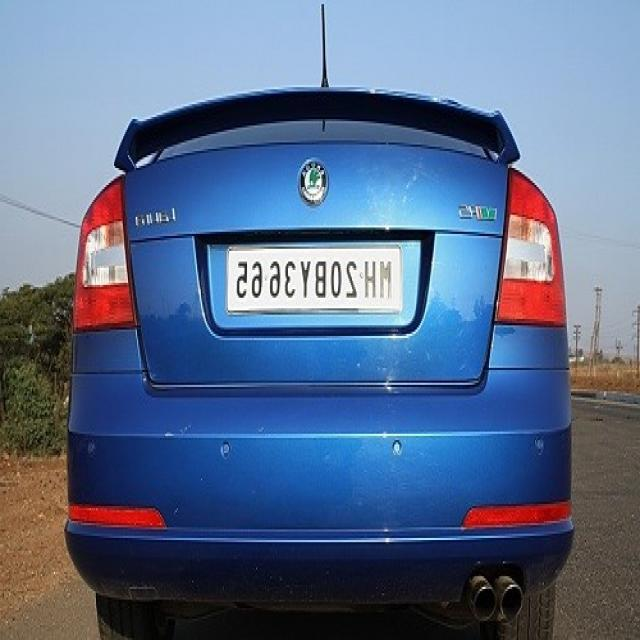license_plate: (221, 243, 405, 317)
